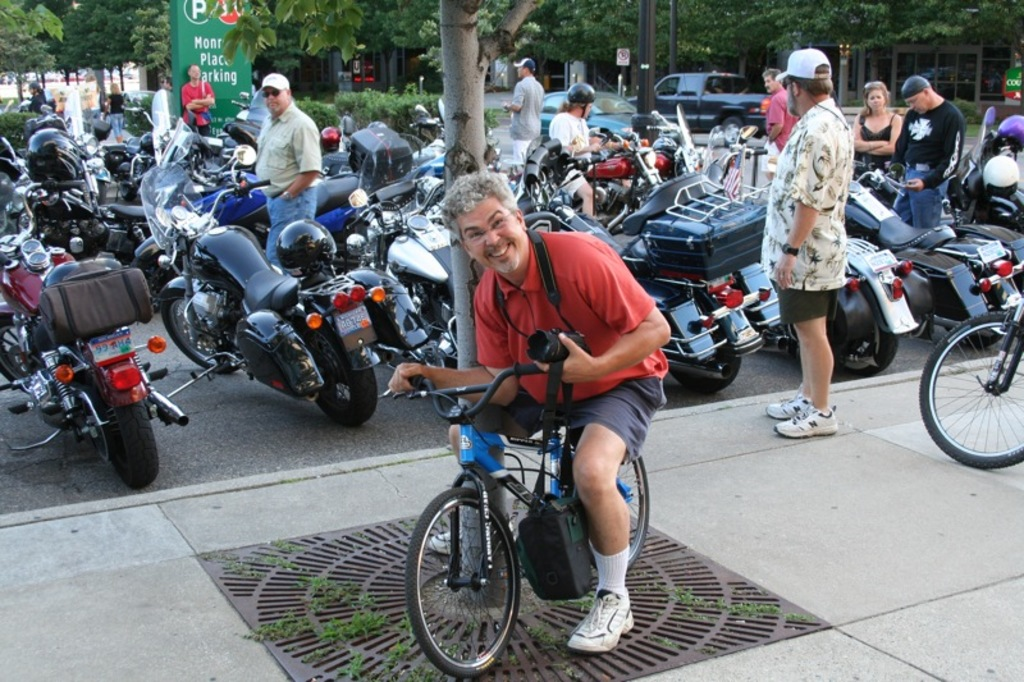Car: (916, 60, 977, 104)
